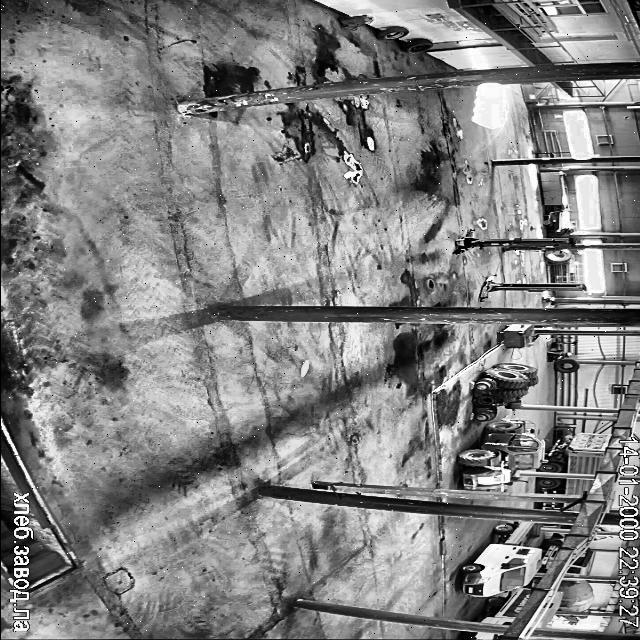car lift: (454, 230, 574, 253), (479, 275, 586, 300)
fire extinguisher: (340, 16, 372, 30)
tractor: (458, 420, 544, 489), (474, 362, 538, 420)
truck: (460, 521, 541, 596), (539, 432, 612, 473), (480, 588, 532, 624), (556, 580, 594, 610), (539, 477, 594, 494), (567, 548, 595, 574), (541, 538, 563, 571), (538, 598, 560, 626), (466, 632, 500, 640), (541, 500, 570, 509), (564, 616, 579, 623), (567, 504, 580, 511), (595, 536, 608, 540)
